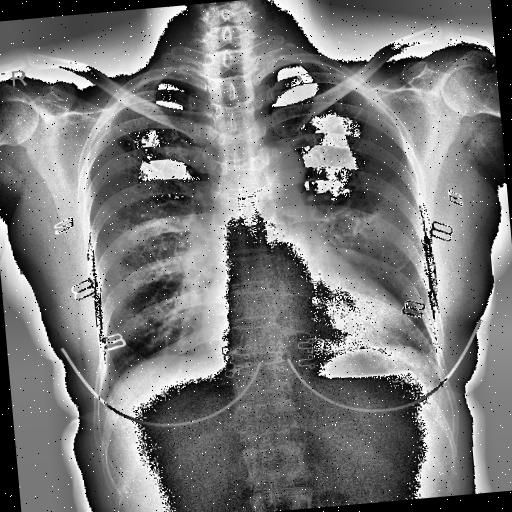0- Aortic enlargement: (260, 142, 306, 188)
3- Cardiomegaly: (204, 272, 413, 369), (200, 298, 434, 380), (199, 290, 417, 368)
